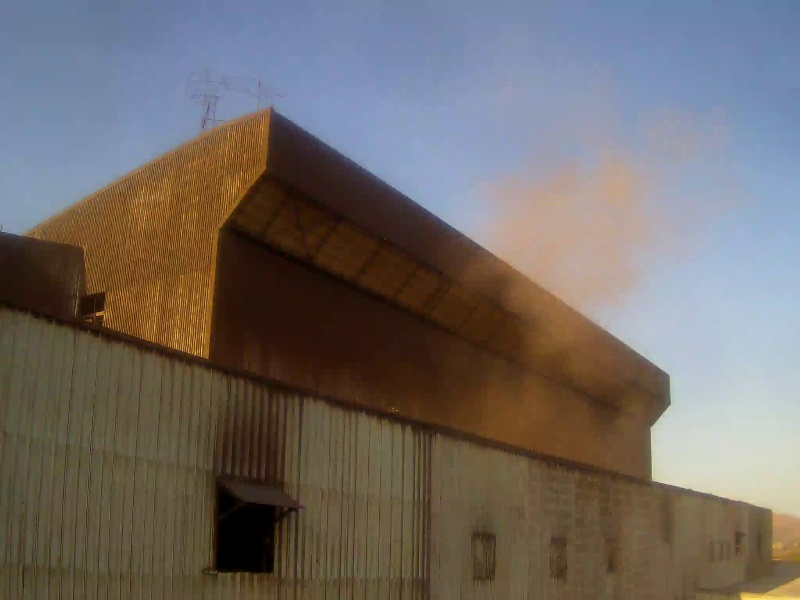bom: (178, 39, 446, 220), (1, 6, 268, 187)
pessimo: (465, 78, 682, 472)
